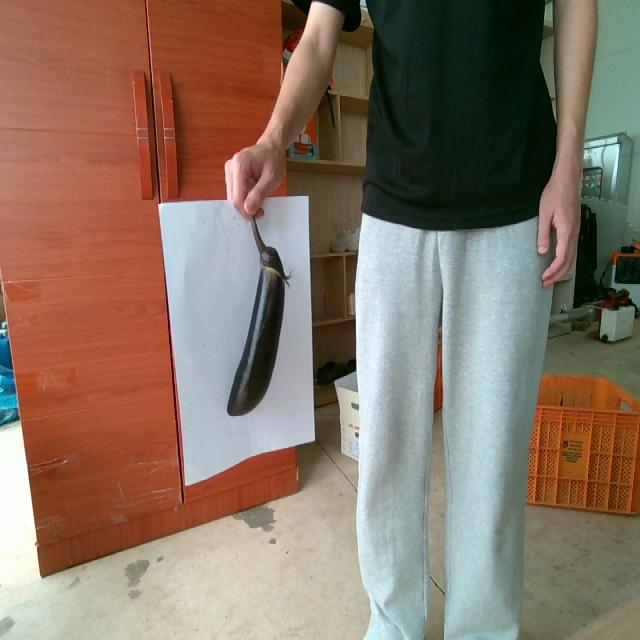Egg plant: (227, 216, 288, 415)
